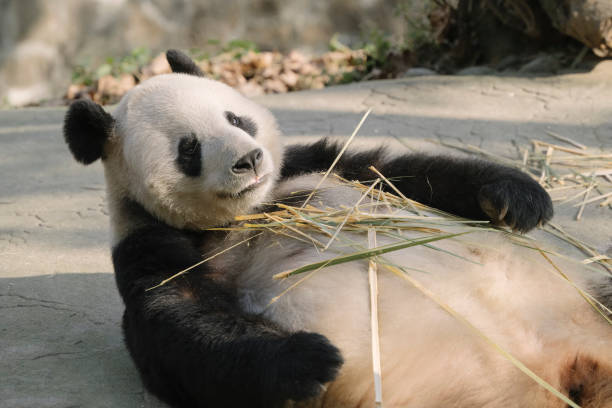panda: (33, 25, 297, 248)
